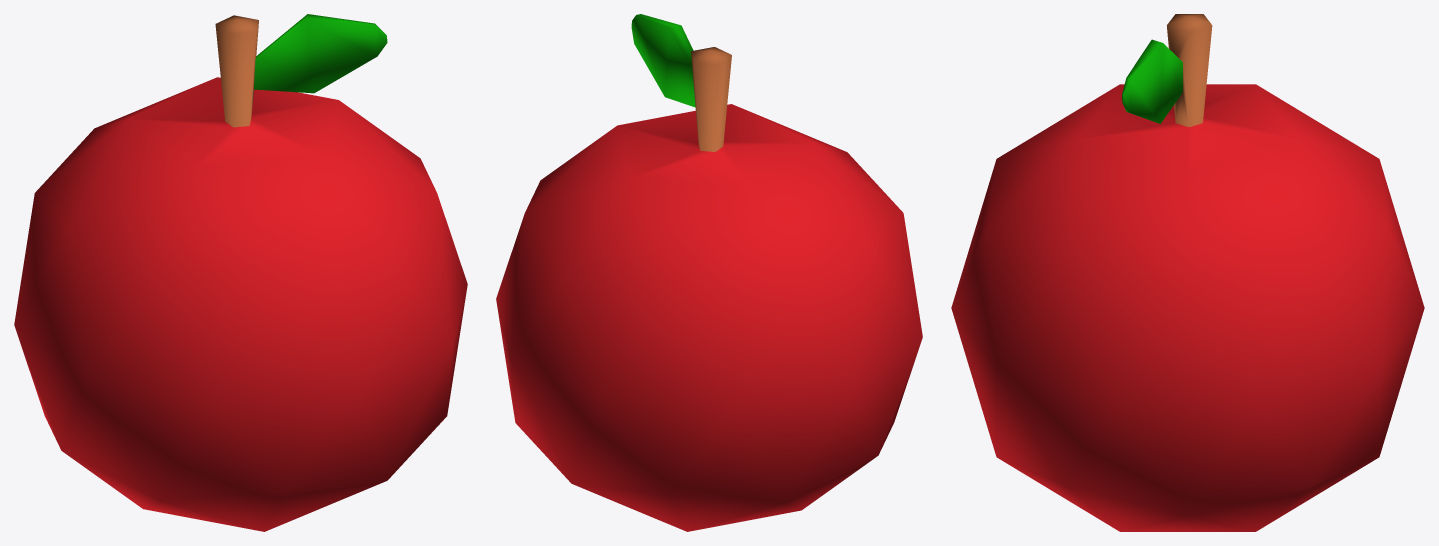
Rendered from Apple.fbx.
3 views of the same model, side by side, from view 1: azimuth 30°, elevation 25°; view 2: azimuth 150°, elevation 25°; view 3: azimuth 270°, elevation 25° (orthographic). The views are drawn at different scales.
Parts seen in each view (by area): view 1: Cube; view 2: Cube; view 3: Cube.
Part boxes in pixels (x1,y1,x2,y2): Cube: [14, 14, 467, 531]; Cube: [496, 14, 922, 531]; Cube: [951, 14, 1424, 531].
Size of the model in its own units: 147 by 178 by 154.
